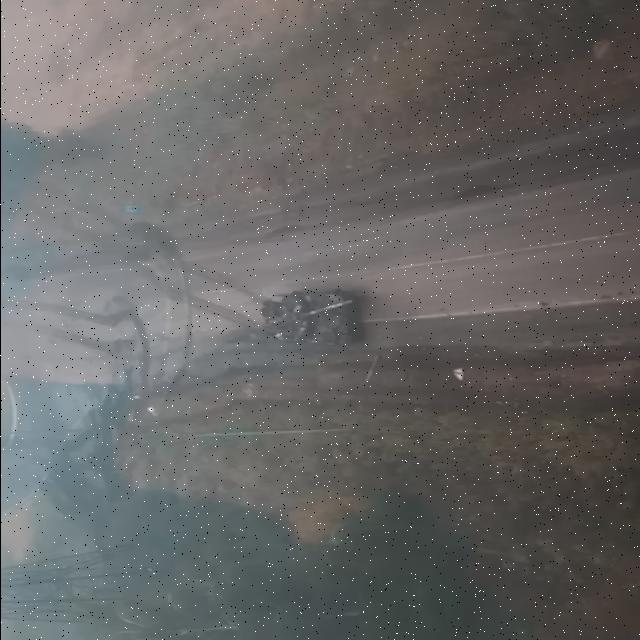TANK: (245, 286, 371, 352)
